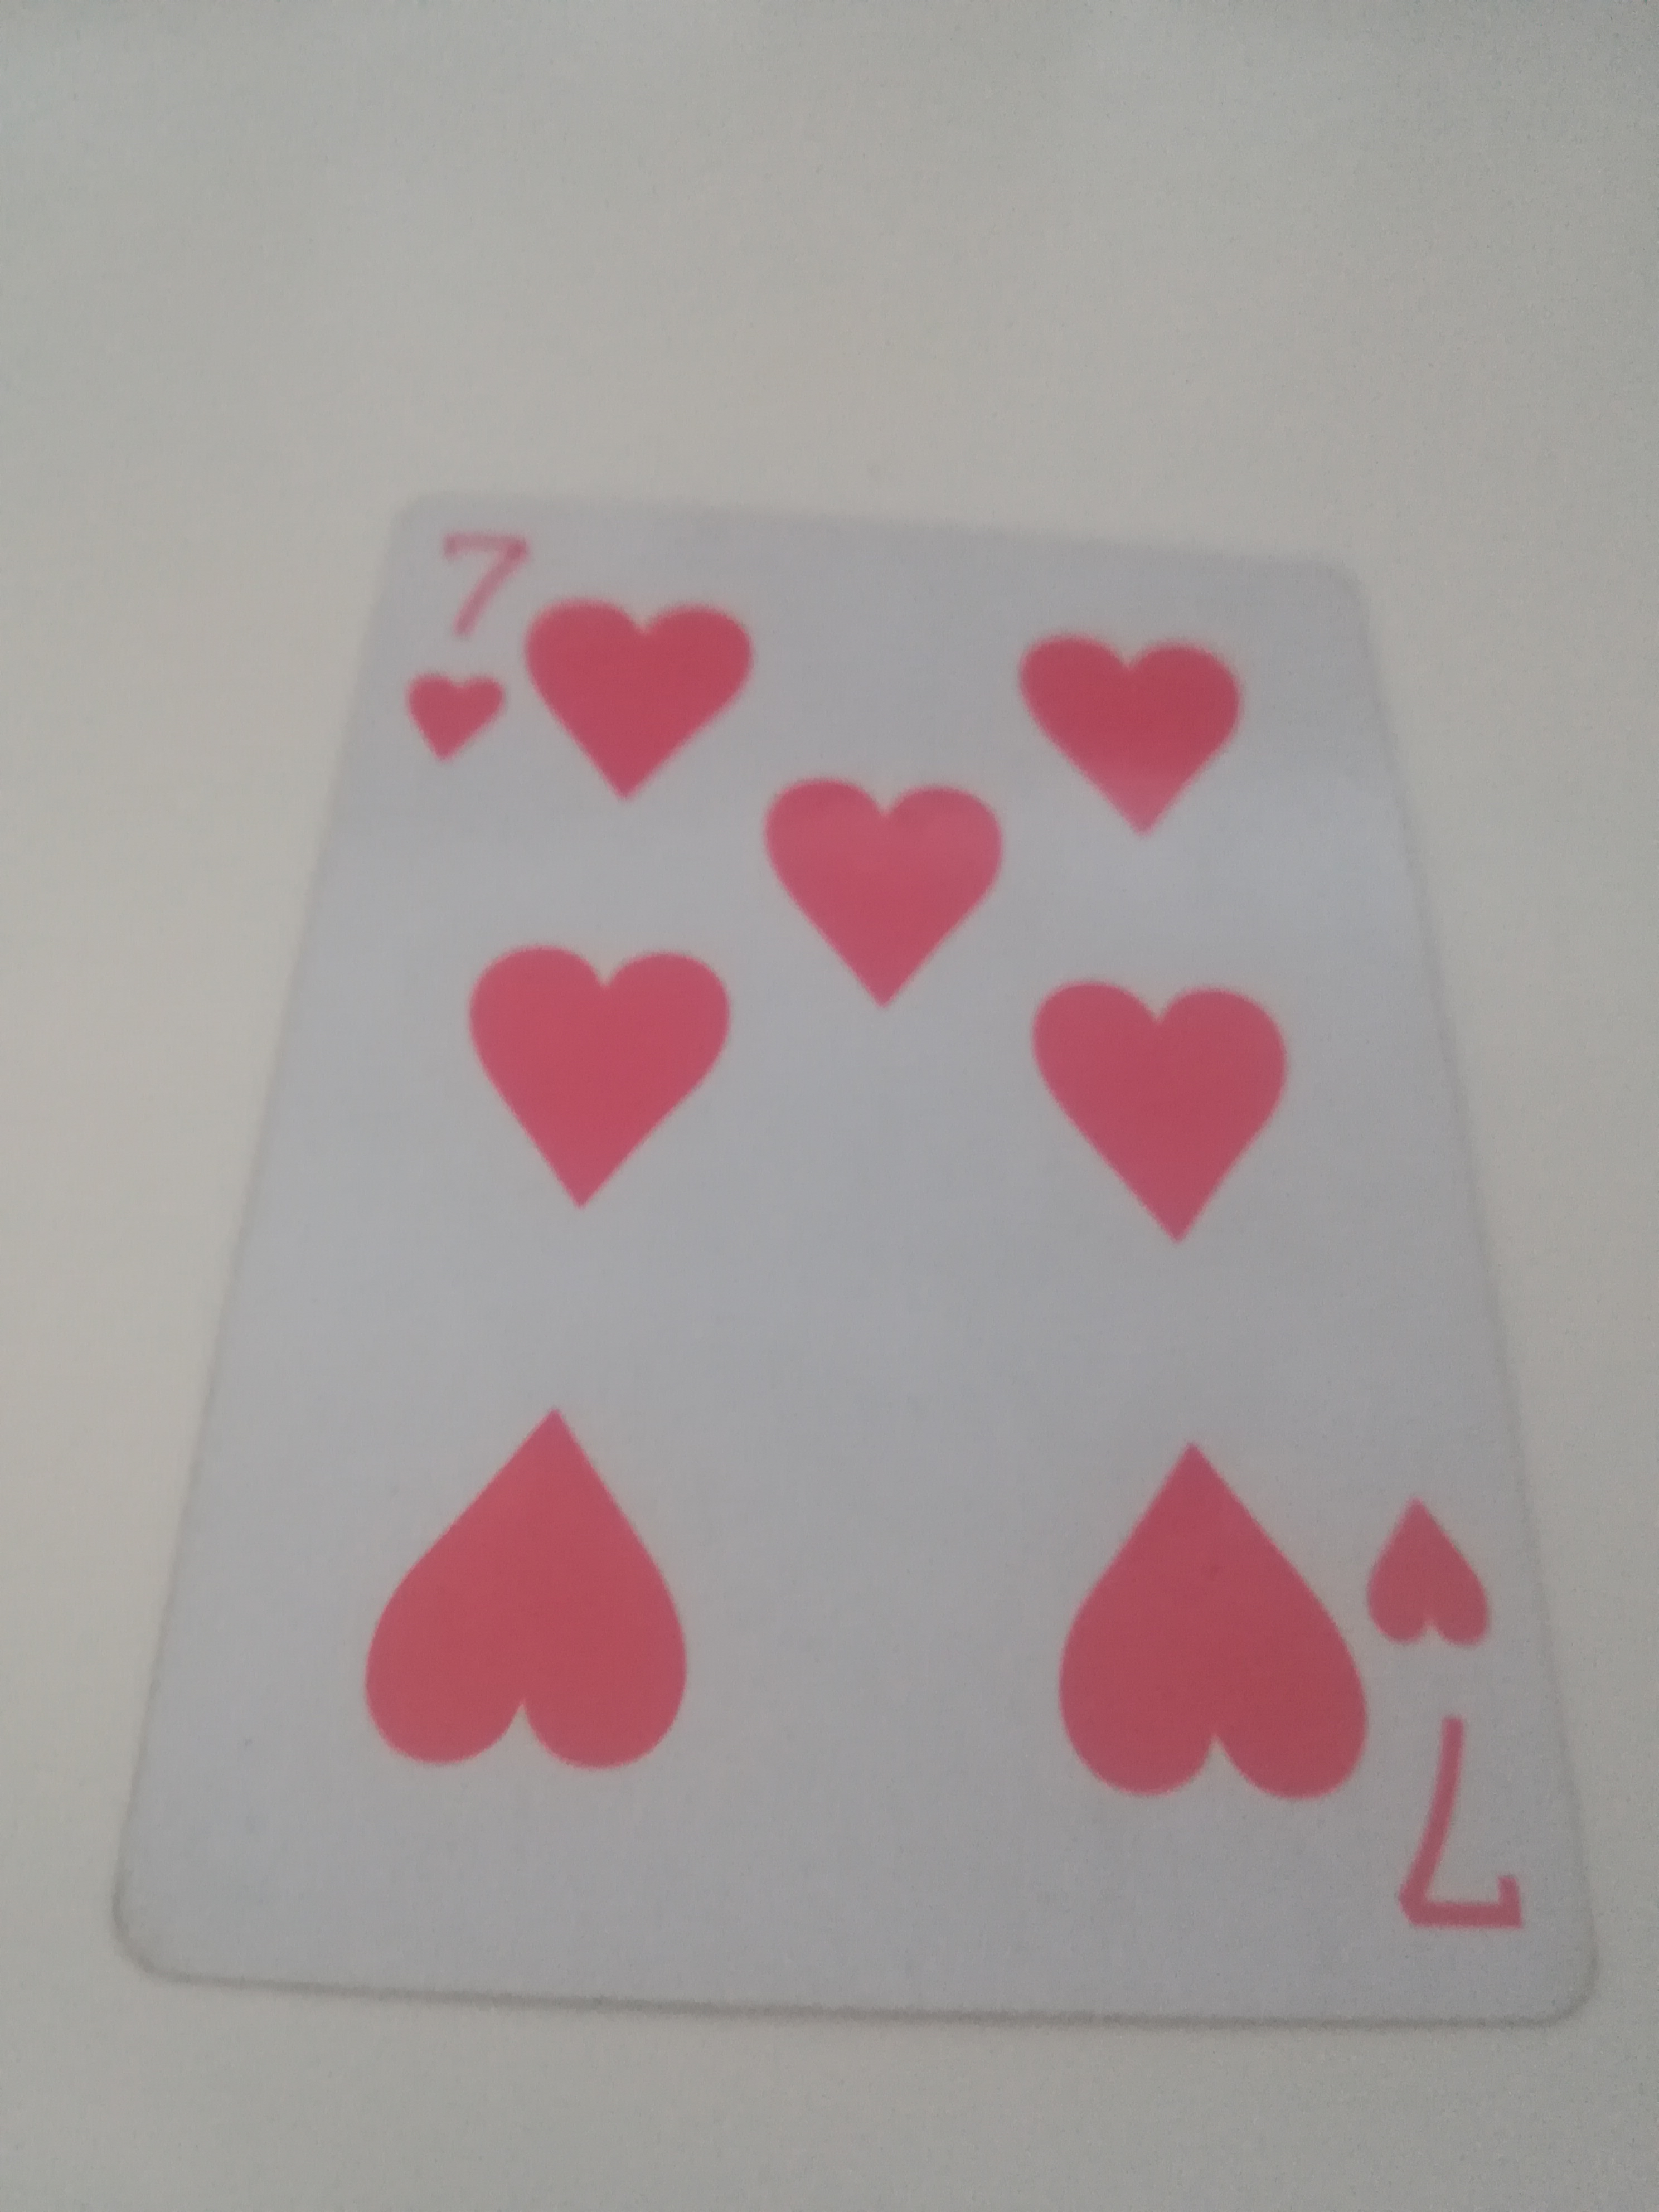7H: (106, 482, 1626, 2034)
